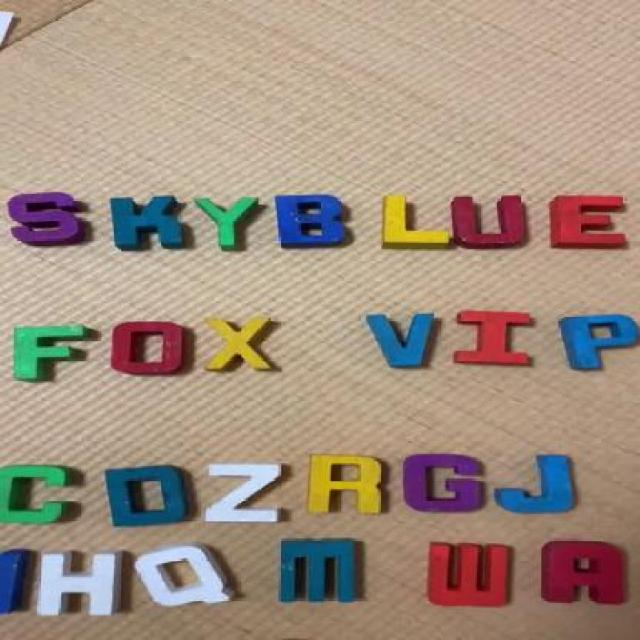A: (539, 540, 633, 602)
B: (276, 194, 350, 248)
C: (0, 464, 69, 527)
D: (104, 464, 188, 525)
E: (551, 194, 623, 249)
F: (15, 326, 86, 379)
G: (402, 454, 486, 512)
H: (40, 551, 123, 615)
I: (457, 308, 538, 366)
J: (498, 454, 578, 514)
K: (112, 196, 183, 250)
L: (378, 196, 454, 252)
M: (274, 541, 364, 601)
O: (112, 321, 192, 377)
P: (560, 313, 631, 367)
Q: (136, 543, 235, 611)
R: (314, 455, 388, 514)
S: (10, 192, 82, 245)
U: (448, 196, 528, 252)
V: (367, 316, 438, 366)
W: (429, 542, 513, 606)
X: (207, 318, 276, 370)
Y: (196, 197, 259, 251)
Z: (204, 463, 284, 525)
